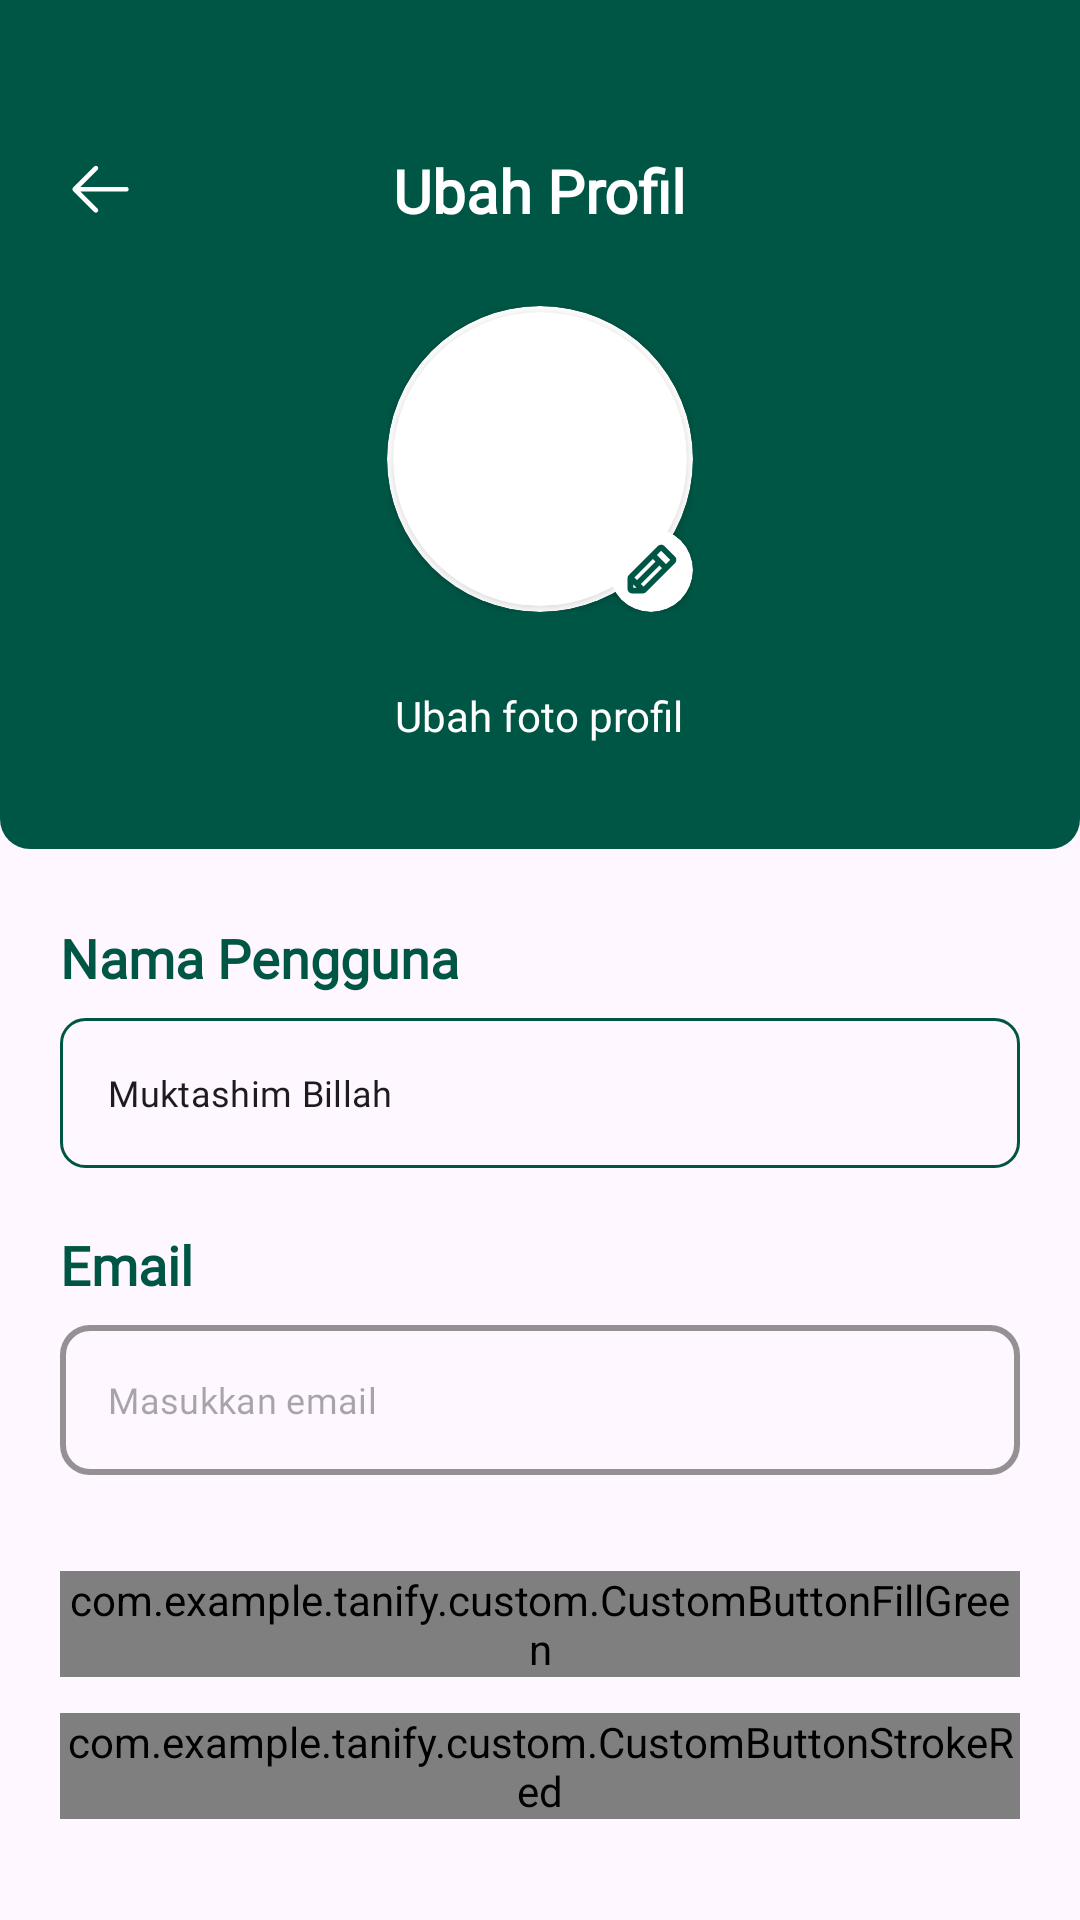

Icon click points for this 1080*1920 phone screenshot, format point (x, y):
left arrow: point (100, 189)
pencil: point (652, 569)
